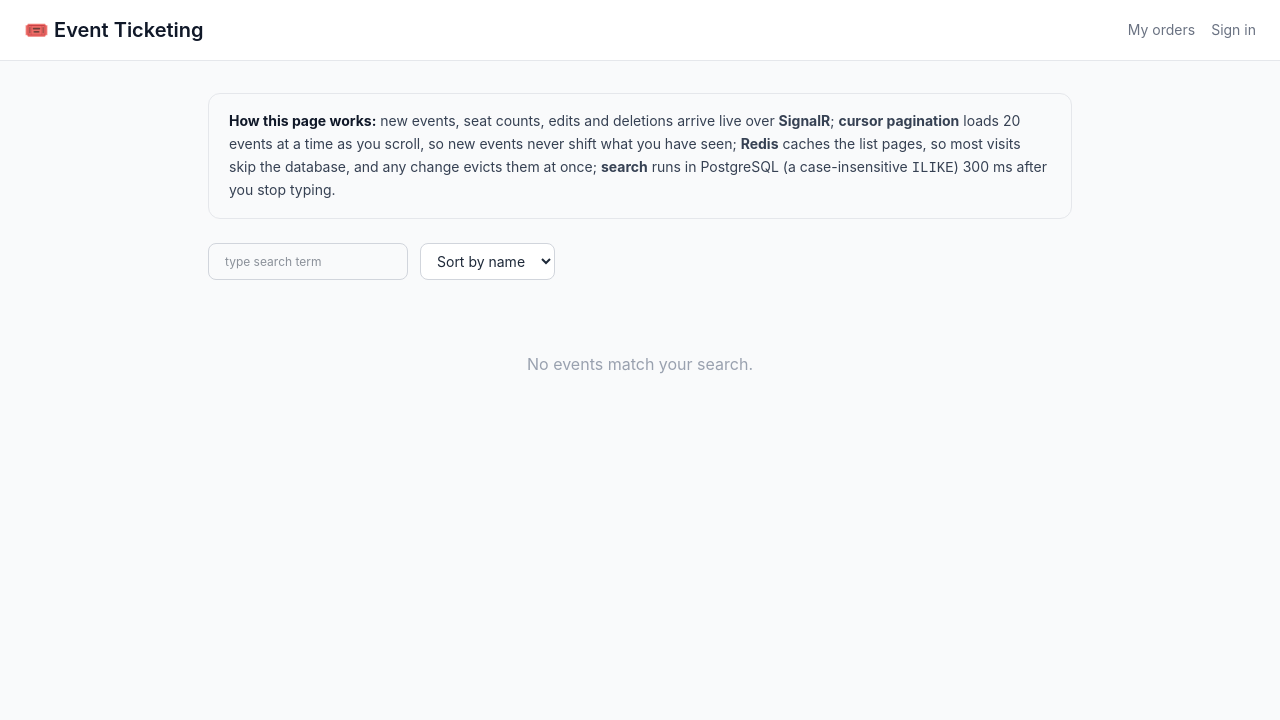
App › navigates to the login page from the Sign in link
Click the link "Sign in" at coordinates (1234, 30), box [1211,20,1256,40]
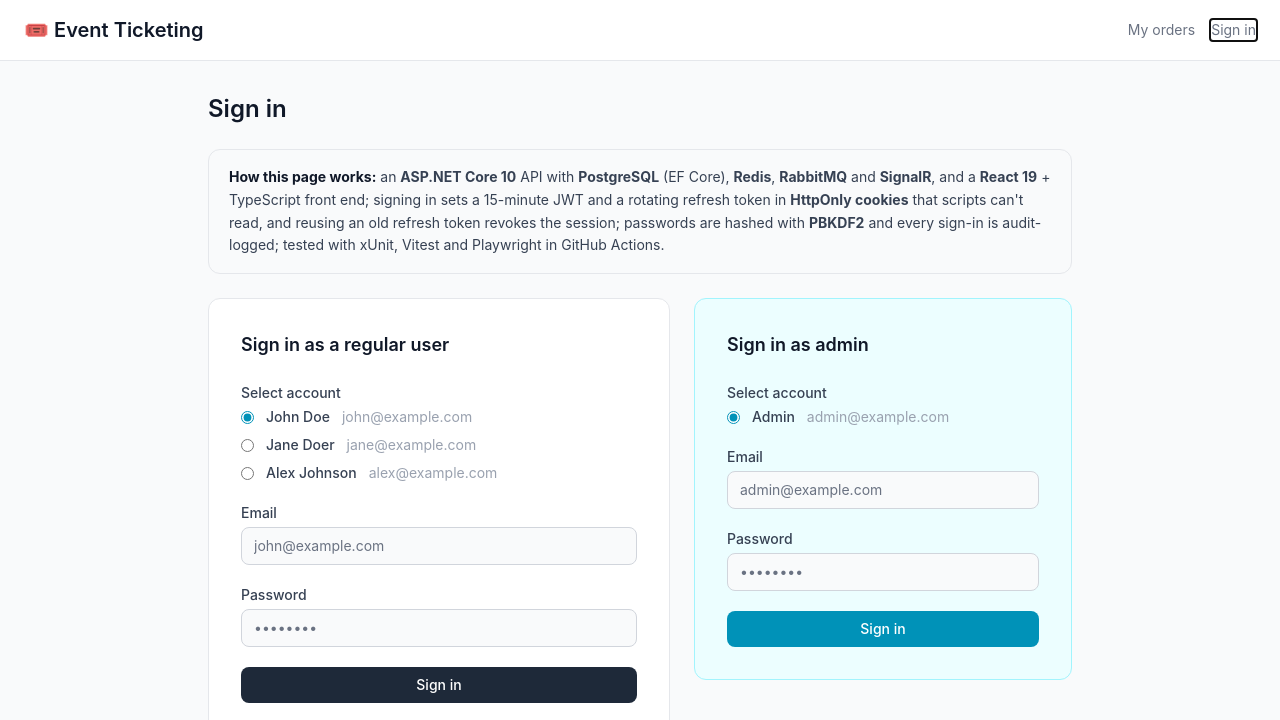
Expected: the heading "Sign in" is shown, [208,94,287,123]
